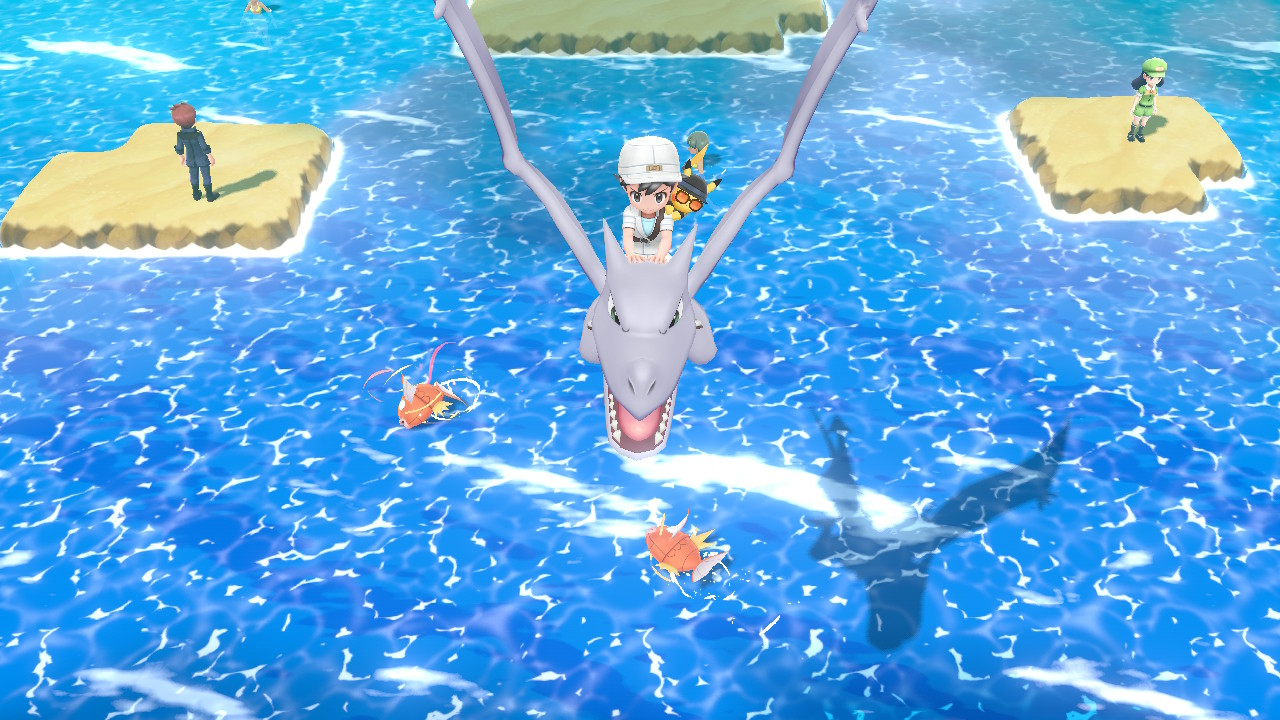Red: (641, 512, 733, 589), (385, 367, 470, 432)
